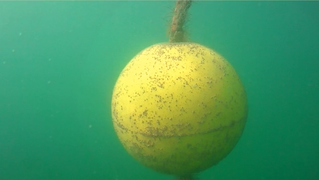buoy: (109, 41, 248, 177)
